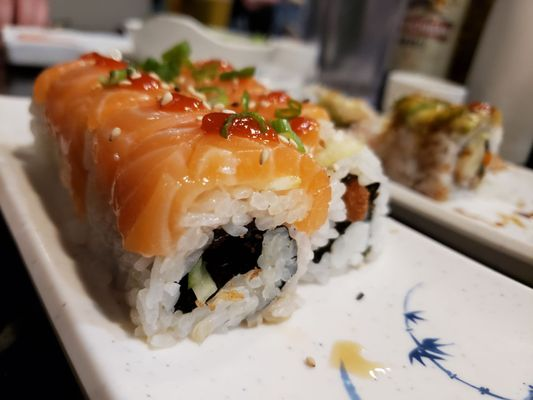soup: (29, 45, 390, 353)
